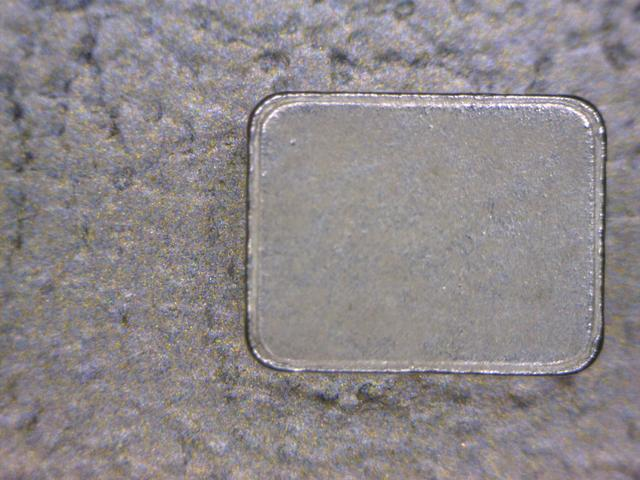nok: (242, 86, 614, 385)
